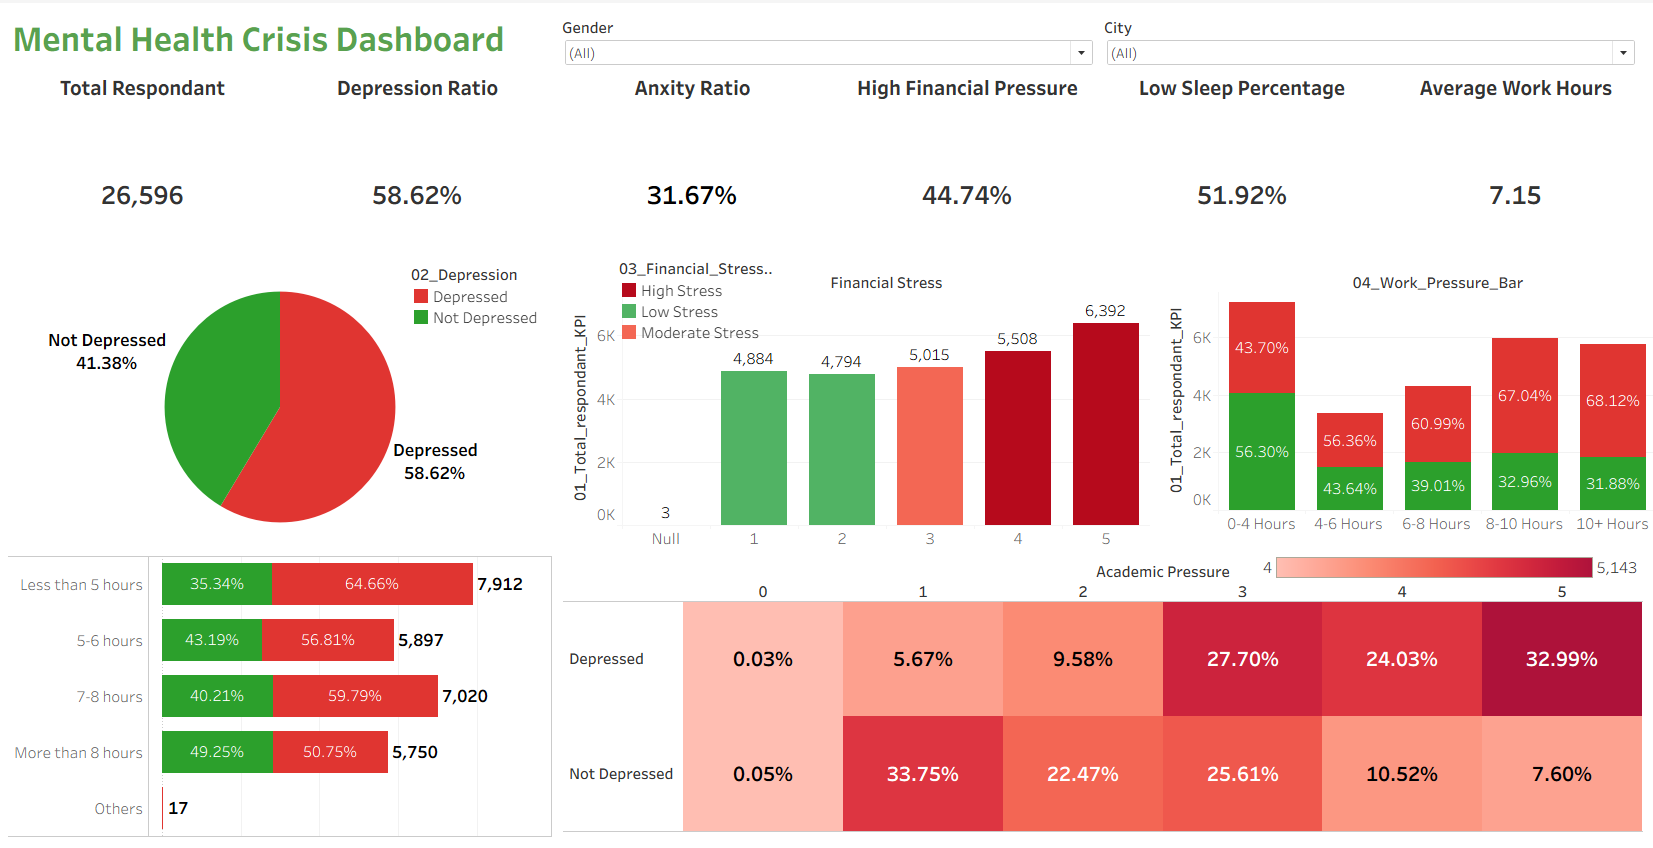

What the dashboard file says about the page in this screenshot:
{"tool":"tableau","page":{"name":"Dashboard 1","canvas":[1000,1000],"units":"permille","ordinal":0},"visuals":[{"type":"title","box":[4.9,9.4,990.3,62.3]},{"type":"filter","title":"Pie_Chart","param":"[federated.126ysou0brsgbu1a0uxjp1ct787w].[none:Gender:nk]","box":[338.4,11.8,327.4,67]},{"type":"filter","title":"Pie_Chart","param":"[federated.126ysou0brsgbu1a0uxjp1ct787w].[none:City:nk]","box":[665.9,11.8,326.8,67]},{"type":"worksheet","title":"Total Respondant","mark":"Automatic","box":[4.9,72.9,166.2,255]},{"type":"worksheet","title":"Depression_percentage","mark":"Automatic","box":[171,72.9,166.2,255]},{"type":"worksheet","title":"Anxity_Percentage","mark":"Automatic","box":[337.2,72.9,165.6,255]},{"type":"worksheet","title":"High_Financial_Stress","mark":"Automatic","box":[502.7,72.9,165.6,255]},{"type":"worksheet","title":"Low_Sleep_Percentage","mark":"Automatic","box":[668.3,72.9,165.6,255]},{"type":"worksheet","title":"Avg_Work_Study_Hours","mark":"Automatic","box":[833.8,72.9,165.6,255]},{"type":"legend","title":"Financial stress bar","param":"[federated.126ysou0brsgbu1a0uxjp1ct787w].[none:Calculation_0599838002106378:nk]","box":[375.5,299.7,93.7,118.7]},{"type":"worksheet","title":"Pie_Chart","mark":"Pie","box":[4.3,304.4,332.9,340.8]},{"type":"legend","title":"Pie_Chart","param":"[federated.126ysou0brsgbu1a0uxjp1ct787w].[none:Calculation_0599837994024969:nk]","box":[250.2,306.7,85.2,75.2]},{"type":"worksheet","title":"Financial stress bar","mark":"Automatic","rows":["Calculation_0599837941137408"],"cols":["Financial Stress"],"box":[338.4,311.4,359.9,336.1]},{"type":"worksheet","title":"Study_Work_Distribution","mark":"Automatic","rows":["Calculation_0599837941137408"],"cols":["Calculation_0599838529986571"],"box":[698.3,311.4,306,336.1]},{"type":"worksheet","title":"Stacked_Bar_Chart","mark":"Bar","rows":["Calculation_0599837990457350"],"cols":["Calculation_0599837941137408","Calculation_0599837941137408"],"box":[4.3,645.1,332.9,339.6]},{"type":"legend","title":"Heatmap","param":"[federated.126ysou0brsgbu1a0uxjp1ct787w].[usr:Calculation_0599837941137408:qk]","box":[761.4,646.3,231.3,29.4]},{"type":"worksheet","title":"Heatmap","mark":"Square","rows":["Calculation_0599837994024969"],"cols":["Academic Pressure"],"box":[339,651,656.7,327.9]}]}

Visuals, with their boxes on the dashboard's canvas, which has no fixed pixel size, in thousandths of its width and height (x1, y1, x2, y2). These are canvas units, not pixel positions in the 1653x848 screenshot, which may show the page scaled, cropped or inside an application window:
title: [5, 9, 995, 72]
"Pie_Chart" filter: [338, 12, 666, 79]
"Pie_Chart" filter: [666, 12, 993, 79]
"Total Respondant" worksheet: [5, 73, 171, 328]
"Depression_percentage" worksheet: [171, 73, 337, 328]
"Anxity_Percentage" worksheet: [337, 73, 503, 328]
"High_Financial_Stress" worksheet: [503, 73, 668, 328]
"Low_Sleep_Percentage" worksheet: [668, 73, 834, 328]
"Avg_Work_Study_Hours" worksheet: [834, 73, 999, 328]
"Financial stress bar" legend: [376, 300, 469, 418]
"Pie_Chart" worksheet (Pie marks): [4, 304, 337, 645]
"Pie_Chart" legend: [250, 307, 335, 382]
"Financial stress bar" worksheet: [338, 311, 698, 648]
"Study_Work_Distribution" worksheet: [698, 311, 1004, 648]
"Stacked_Bar_Chart" worksheet (Bar marks): [4, 645, 337, 985]
"Heatmap" legend: [761, 646, 993, 676]
"Heatmap" worksheet (Square marks): [339, 651, 996, 979]
